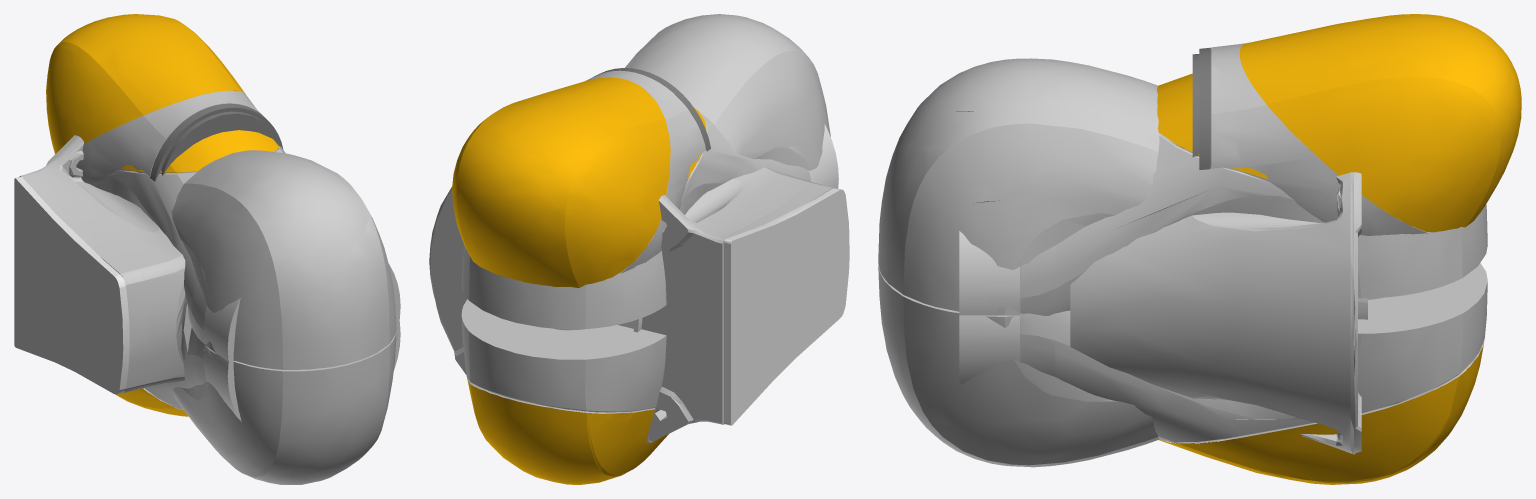
The model's file is iiwa7.glb.
The picture shows the model from 3 angles, left to right: view 1: azimuth 30°, elevation 25°; view 2: azimuth 150°, elevation 25°; view 3: azimuth 270°, elevation 25°; orthographic projection. The views are drawn at different scales.
Parts seen in each view (by area): view 1: link_3__body, link_1__body, link_6__accent, link_0__light, link_0__body, link_6__body, link_2__body, link_6__dark, link_2__accent, link_4__body, link_2__light, link_4__light (+1 smaller); view 2: link_6__accent, link_0__body, link_0__light, link_3__body, link_4__body, link_2__body, link_4__accent, link_6__body, link_2__light, link_6__dark; view 3: link_0__body, link_3__body, link_6__accent, link_4__body, link_1__body, link_2__body, link_4__accent, link_6__body, link_2__light, link_4__light, link_2__accent, link_6__dark.
Part boxes in pixels (x1=…): link_3__body: x1=111, y1=150, x2=396, y2=369; link_1__body: x1=121, y1=275, x2=396, y2=484; link_6__accent: x1=46, y1=14, x2=245, y2=153; link_0__light: x1=14, y1=177, x2=129, y2=394; link_0__body: x1=19, y1=135, x2=191, y2=393; link_6__body: x1=76, y1=90, x2=262, y2=183; link_2__body: x1=90, y1=146, x2=400, y2=381; link_6__dark: x1=150, y1=103, x2=283, y2=181; link_2__accent: x1=121, y1=130, x2=278, y2=172; link_4__body: x1=143, y1=321, x2=400, y2=421; link_2__light: x1=203, y1=298, x2=240, y2=361; link_4__light: x1=203, y1=345, x2=240, y2=420; link_6__accent: x1=452, y1=77, x2=670, y2=287; link_0__body: x1=429, y1=167, x2=835, y2=443; link_0__light: x1=724, y1=188, x2=849, y2=425; link_3__body: x1=625, y1=14, x2=830, y2=170; link_4__body: x1=461, y1=299, x2=666, y2=413; link_2__body: x1=461, y1=113, x2=810, y2=329; link_4__accent: x1=468, y1=382, x2=668, y2=484; link_6__body: x1=586, y1=70, x2=705, y2=273; link_2__light: x1=809, y1=124, x2=838, y2=200; link_6__dark: x1=593, y1=68, x2=710, y2=151; link_0__body: x1=1070, y1=172, x2=1361, y2=454; link_3__body: x1=878, y1=58, x2=1161, y2=315; link_6__accent: x1=1239, y1=14, x2=1521, y2=232; link_4__body: x1=1020, y1=263, x2=1487, y2=443; link_1__body: x1=878, y1=264, x2=1159, y2=467; link_2__body: x1=1020, y1=133, x2=1487, y2=315; link_4__accent: x1=1159, y1=342, x2=1484, y2=484; link_6__body: x1=1211, y1=42, x2=1428, y2=235; link_2__light: x1=959, y1=231, x2=1019, y2=315; link_4__light: x1=959, y1=315, x2=1019, y2=385; link_2__accent: x1=1157, y1=73, x2=1267, y2=178; link_6__dark: x1=1192, y1=47, x2=1211, y2=169.
Size of the model in its own units: 0.217 by 0.2625 by 0.3468.
6 materials, 1 textured.
